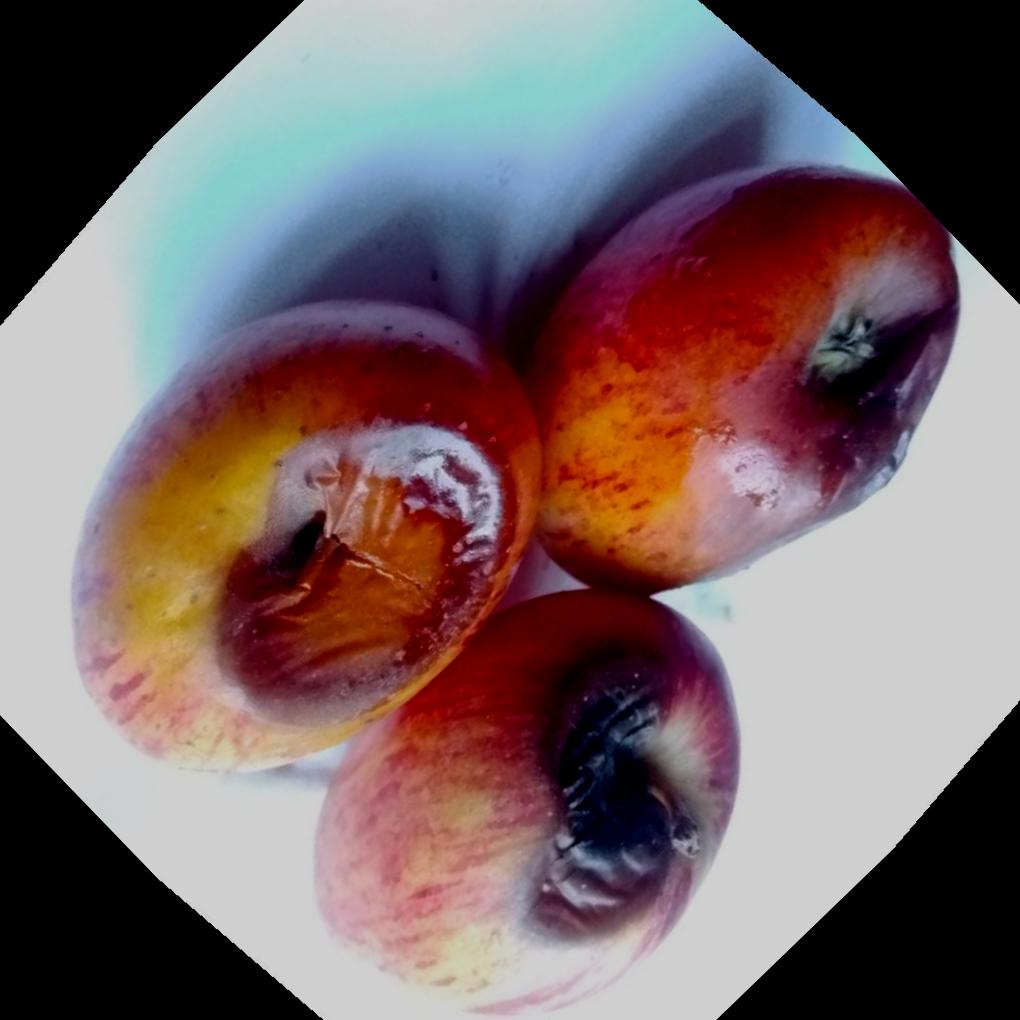FreshOrange: (72, 164, 960, 1014)
